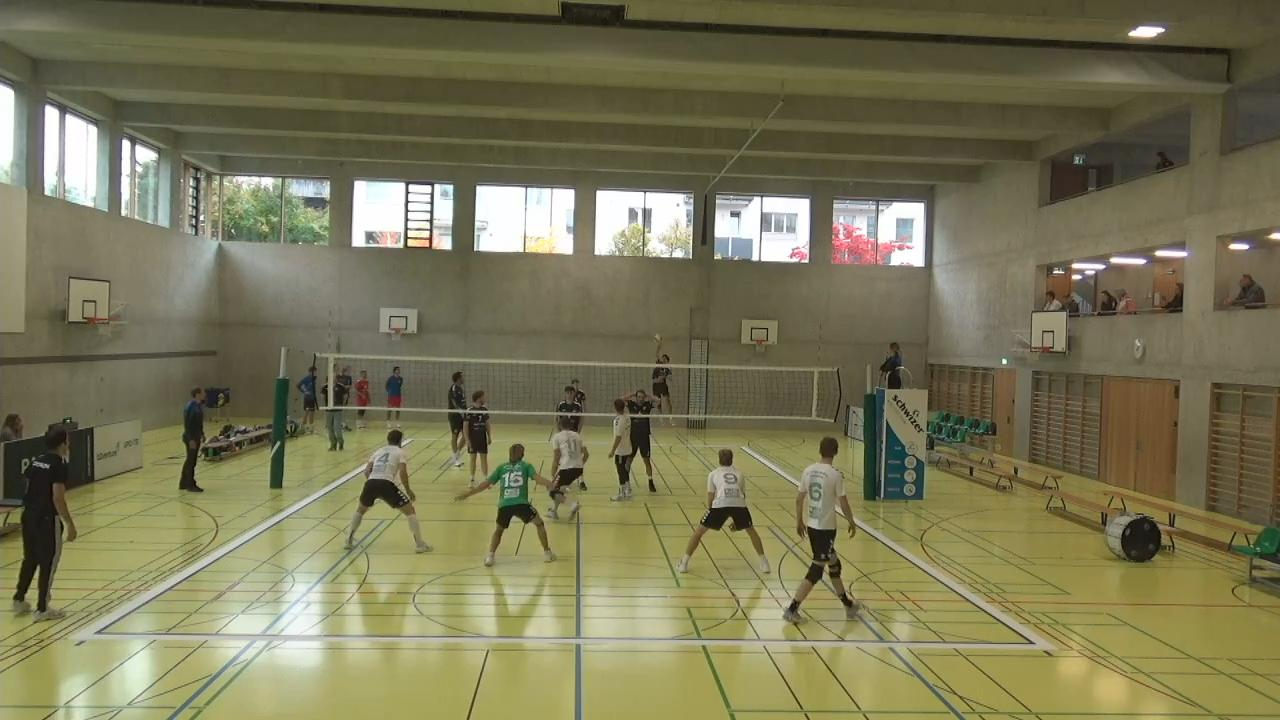Player: (784, 437, 861, 621), (459, 442, 558, 566), (678, 447, 770, 574), (348, 428, 432, 552), (547, 414, 588, 519), (624, 388, 659, 495), (607, 395, 640, 500), (462, 389, 492, 475), (445, 370, 468, 469), (560, 377, 585, 432), (571, 376, 587, 405)
Serve: (651, 334, 678, 429)
ball: (651, 329, 664, 345)
